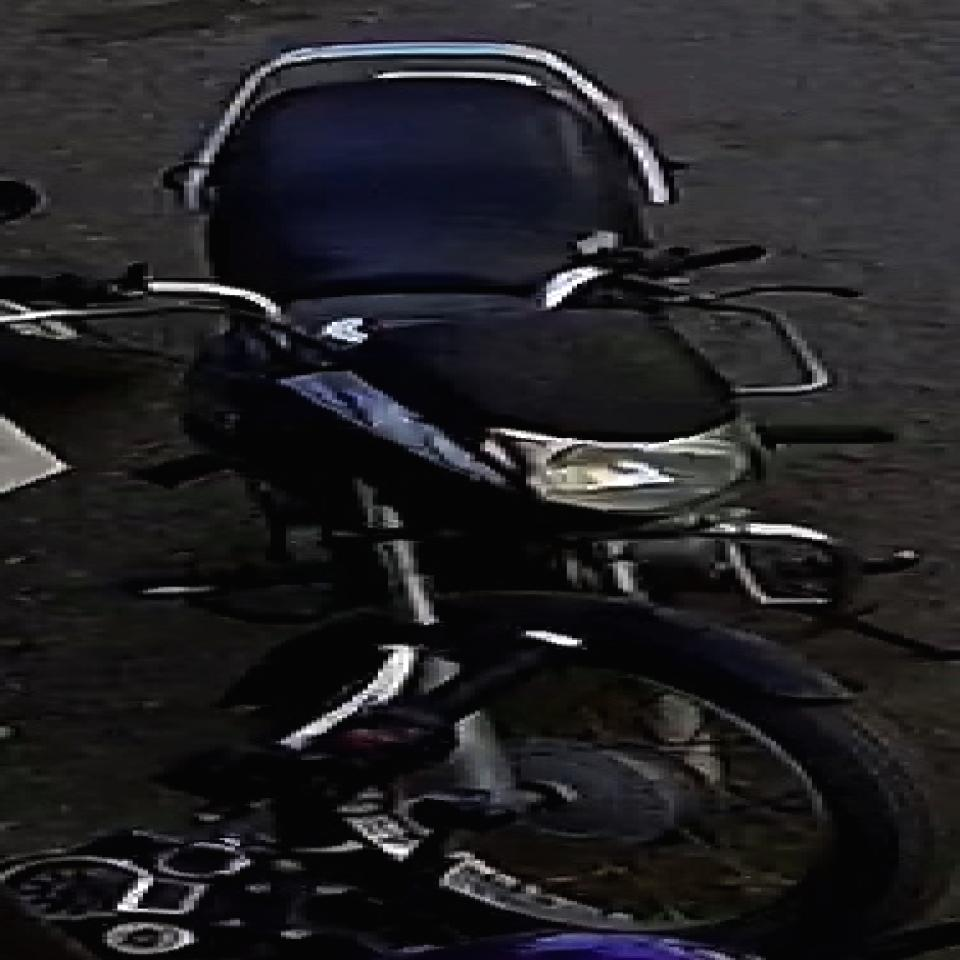head_light: (537, 434, 766, 510)
